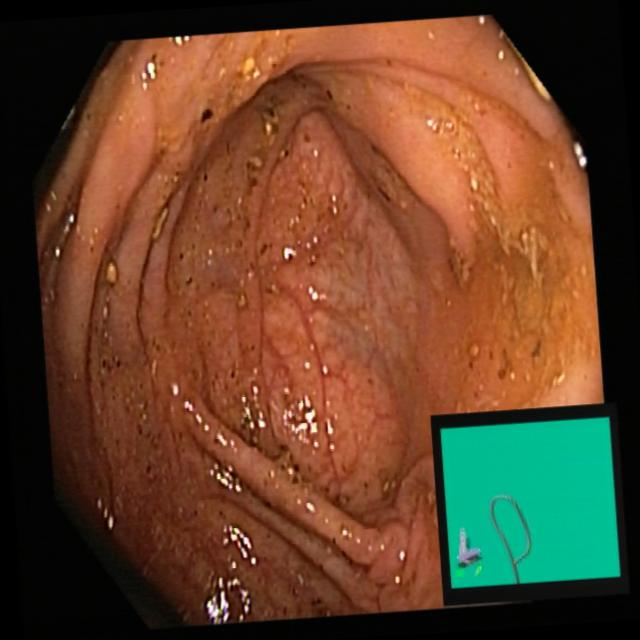normal-cecum: (45, 297, 363, 627), (408, 64, 601, 413), (146, 31, 318, 298), (194, 355, 387, 546)
